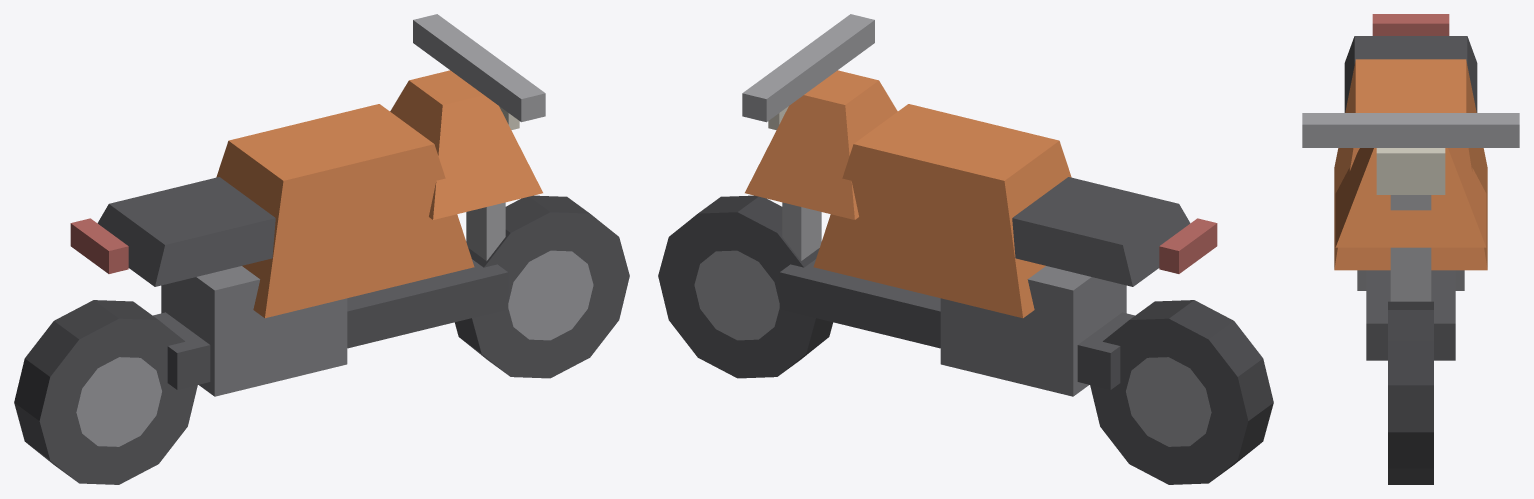
The model's file is bigbike.gltf.
The picture shows the model from 3 angles, left to right: view 1: azimuth 30°, elevation 25°; view 2: azimuth 150°, elevation 25°; view 3: azimuth 270°, elevation 25°; orthographic projection.
Size of the model in its own units: 2.68 by 1.42 by 0.85.
